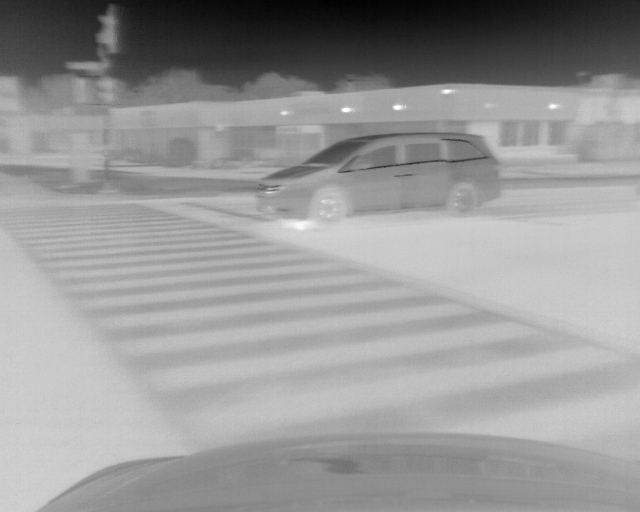car: (253, 131, 501, 225)
